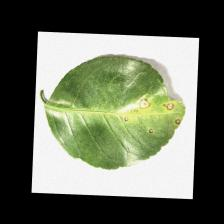canker: (136, 75, 182, 141)
